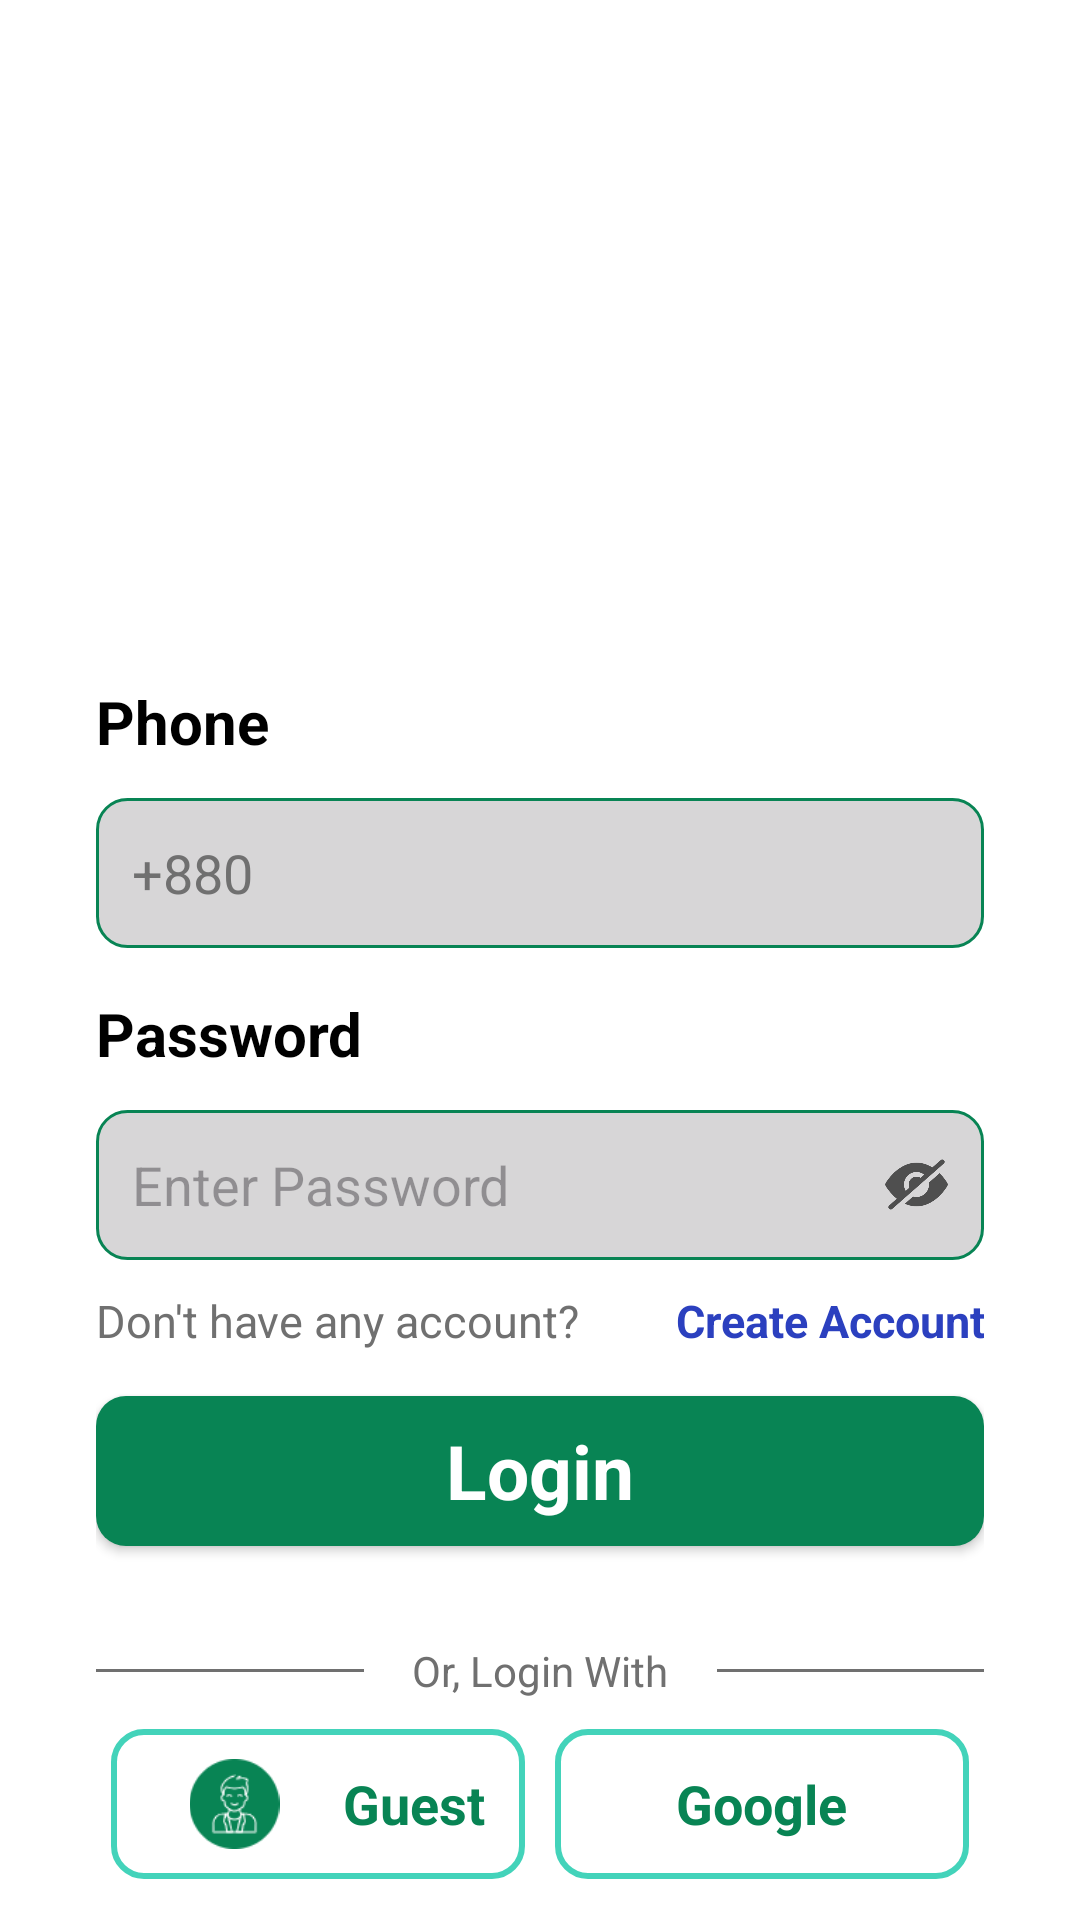

Named icons in this screenshot (1080×1920) and their centers, (x,y):
pass hide: (916,1184)
